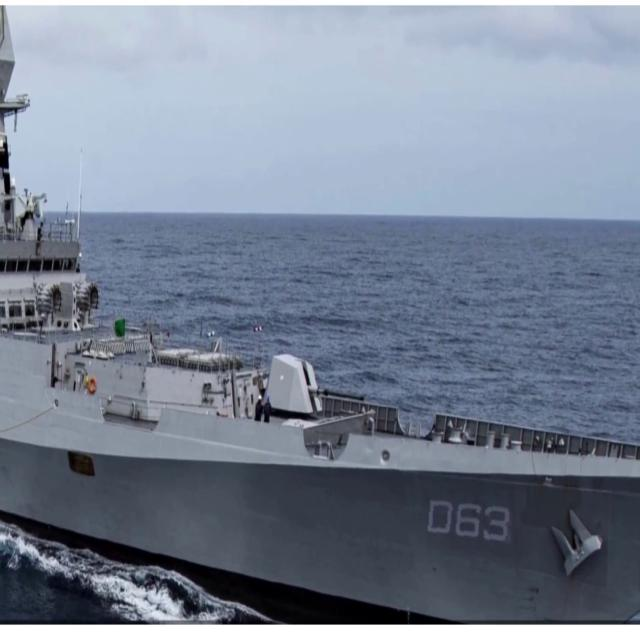OCR: (426, 491, 514, 554)
